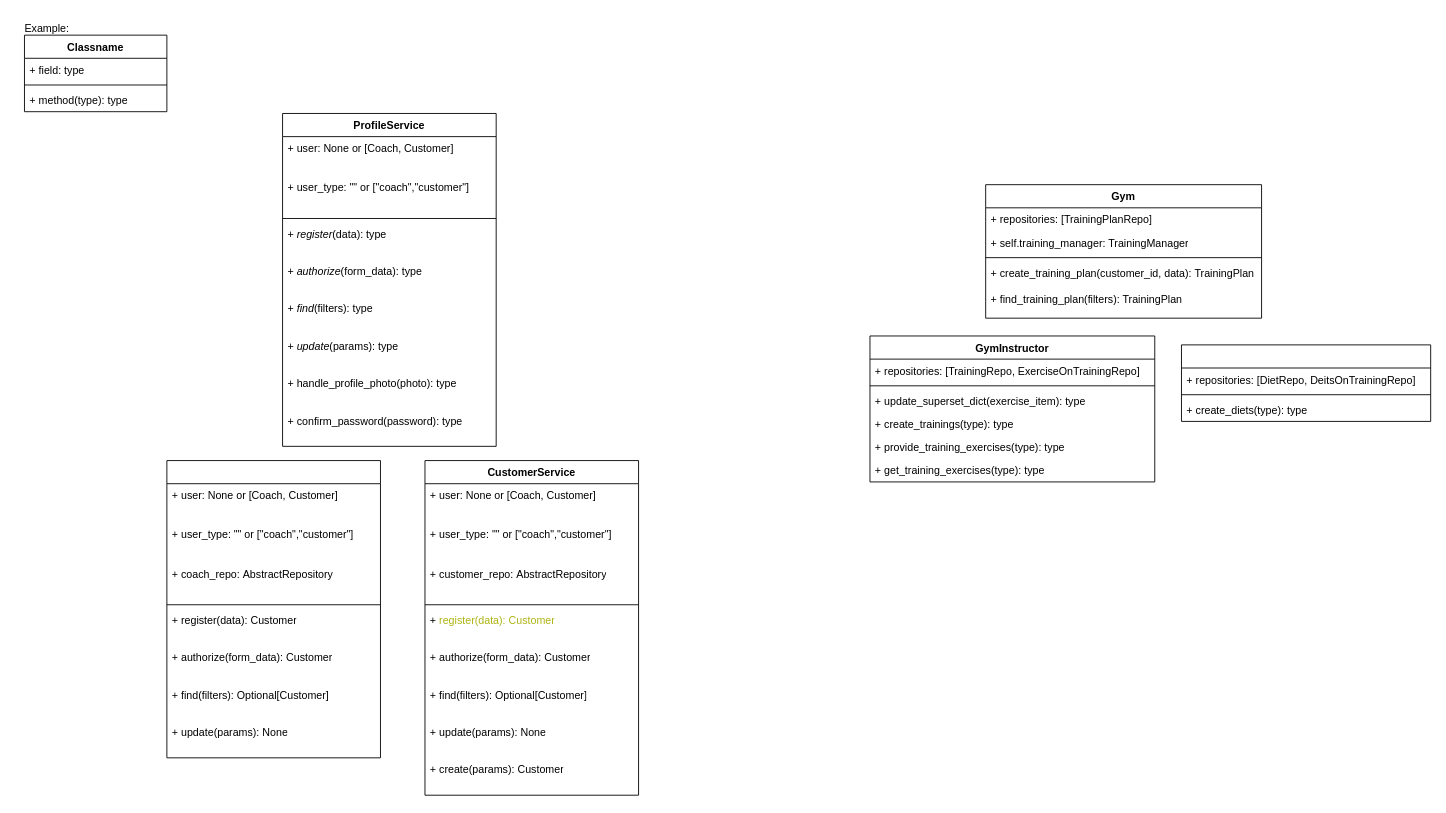
The diagram is 1446 pixels wide and 813 high, and some of its shapes have lost their labels. Here are the shapes that lost their labels. From the top down, the box of each, then its label:
(1181, 344, 1431, 421): Nutritionist
(166, 460, 380, 758): CoachService
